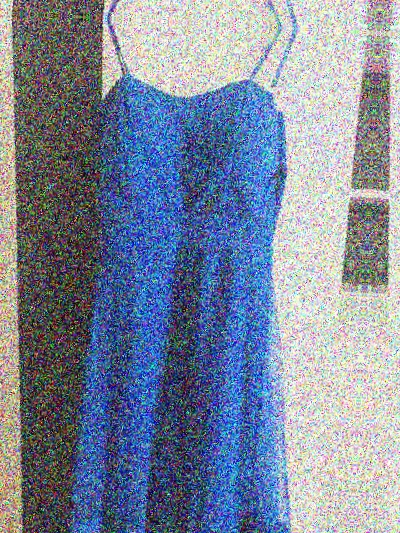Dress: (23, 52, 329, 533), (397, 72, 400, 533)
